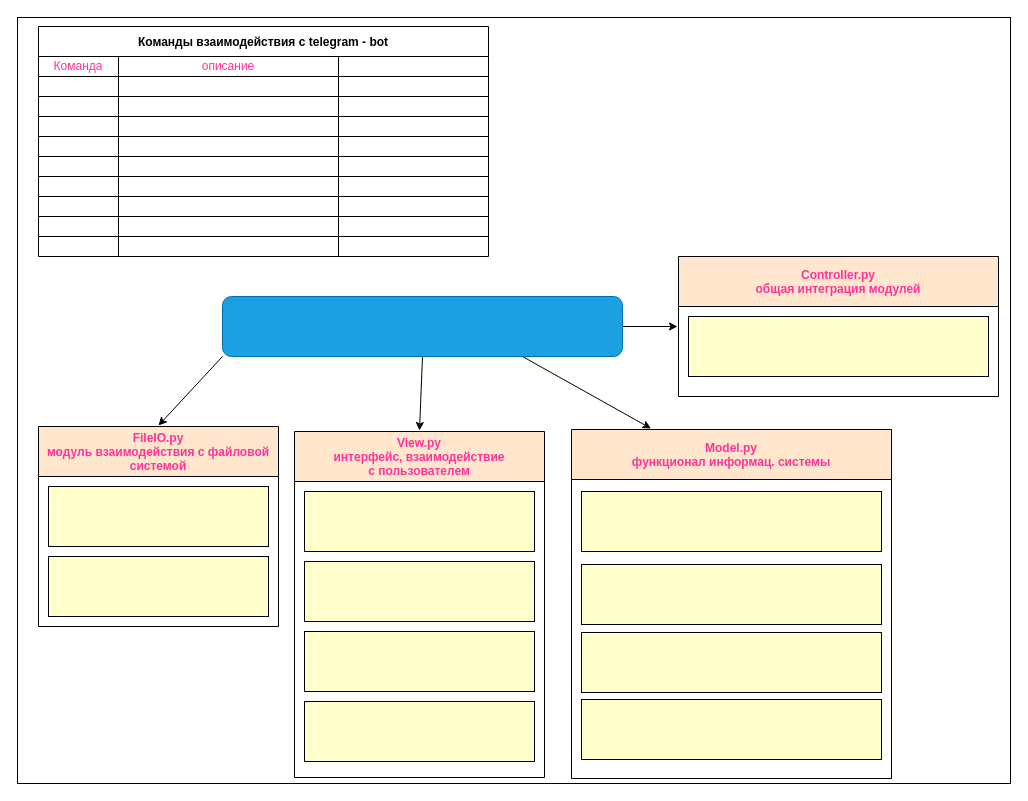
This 1028x801 diagram has some shape labels left out. The shapes that lost their labels are listed below. From the top down, each one's centre as x and y in pixels, then its label:
At pixel 422 326: "Задача".
At pixel 838 346: "- Start() циклический метод основного процесса".
